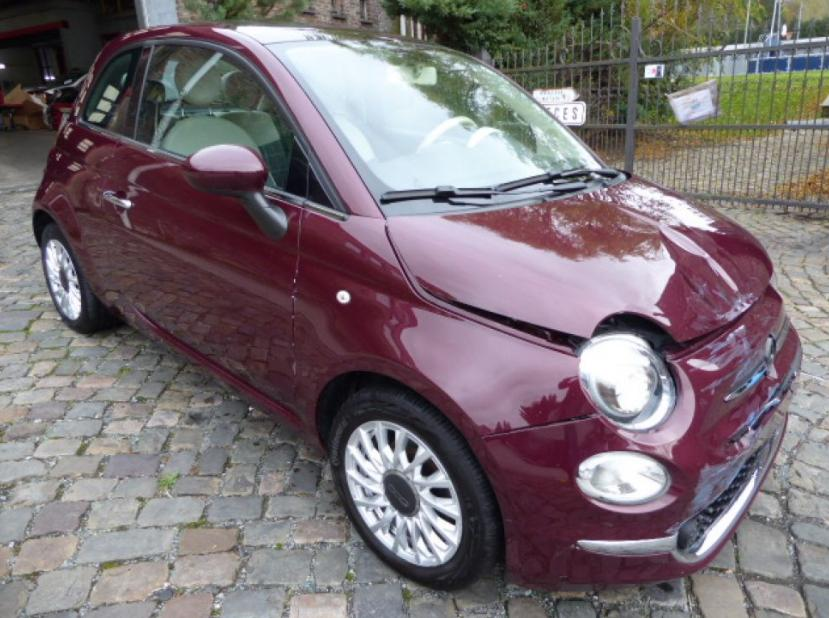Back-wheel: (40, 223, 118, 333)
Back-window: (76, 40, 145, 136)
Fender: (292, 201, 598, 449)
Front-bumper: (469, 285, 803, 587)
Front-door: (98, 39, 309, 411)
Front-wheel: (329, 385, 502, 589)
Front-window: (135, 45, 336, 209)
Grille: (700, 448, 766, 540)
Headlight: (577, 330, 676, 433)
Hood: (388, 171, 773, 345)
Mirror: (181, 144, 289, 240)
Quarter-panel: (31, 120, 118, 296)
Rocker-panel: (98, 291, 293, 423)
Roof: (187, 21, 435, 45)
Windshield: (265, 40, 603, 218)
